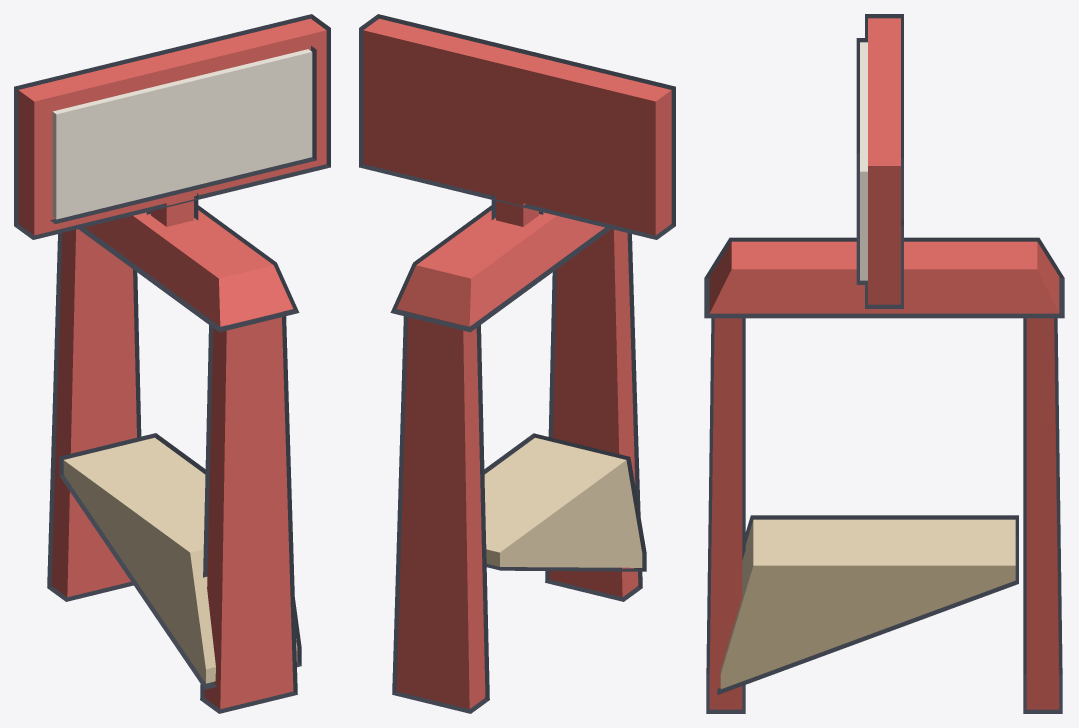
File: sort_gate.glb
The picture shows the model from 3 angles, left to right: view 1: azimuth 30°, elevation 25°; view 2: azimuth 150°, elevation 25°; view 3: azimuth 270°, elevation 25°; orthographic projection. The views are drawn at different scales.
Parts seen in each view (by area): view 1: arch, sign, chute, ink_outline (×3); view 2: arch, sign, chute, ink_outline (×3); view 3: arch, chute, ink_outline (×3), sign.
Boxes of the visible parts, x1,y1,x2,y2 form: arch: (51,210,293,708); sign: (18,18,326,235); chute: (63,437,297,683); ink_outline (×3): (14,14,330,713); arch: (396,210,638,708); sign: (363,18,671,235); chute: (484,437,642,567); ink_outline (×3): (359,14,675,713); arch: (709,241,1059,709); chute: (720,519,1015,688); ink_outline (×3): (704,14,1064,713); sign: (860,18,900,304).
Size of the model in its own units: 0.0652 by 0.1222 by 0.0659.
